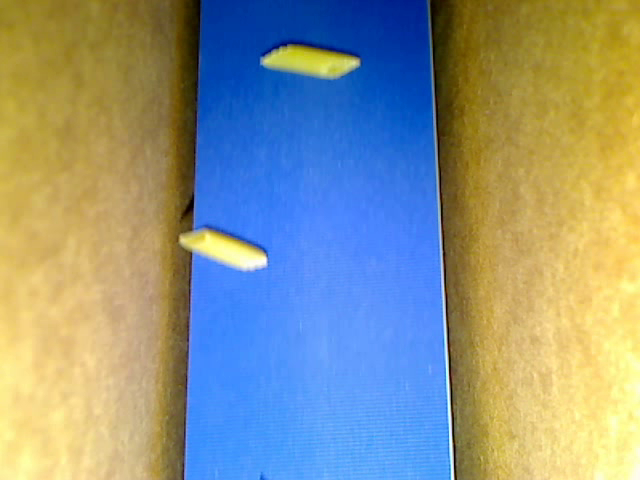penne: (177, 228, 268, 274), (260, 42, 360, 81)
